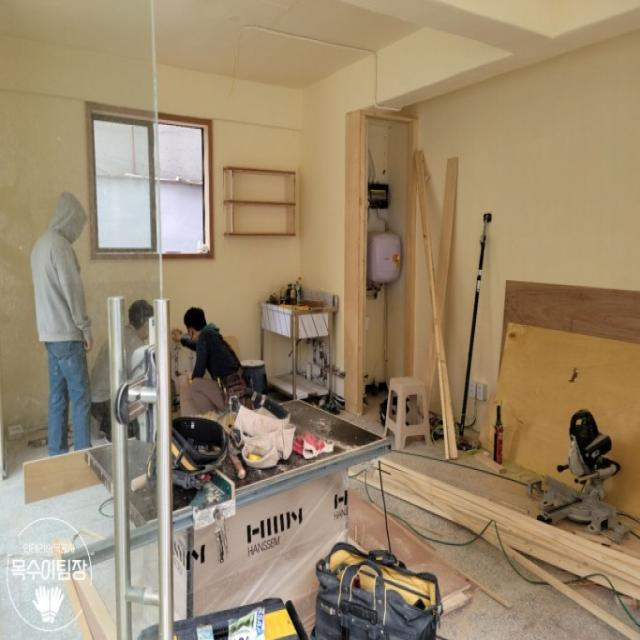board: (486, 321, 640, 521), (496, 279, 640, 385)
wood: (415, 151, 459, 460), (418, 158, 458, 418)
